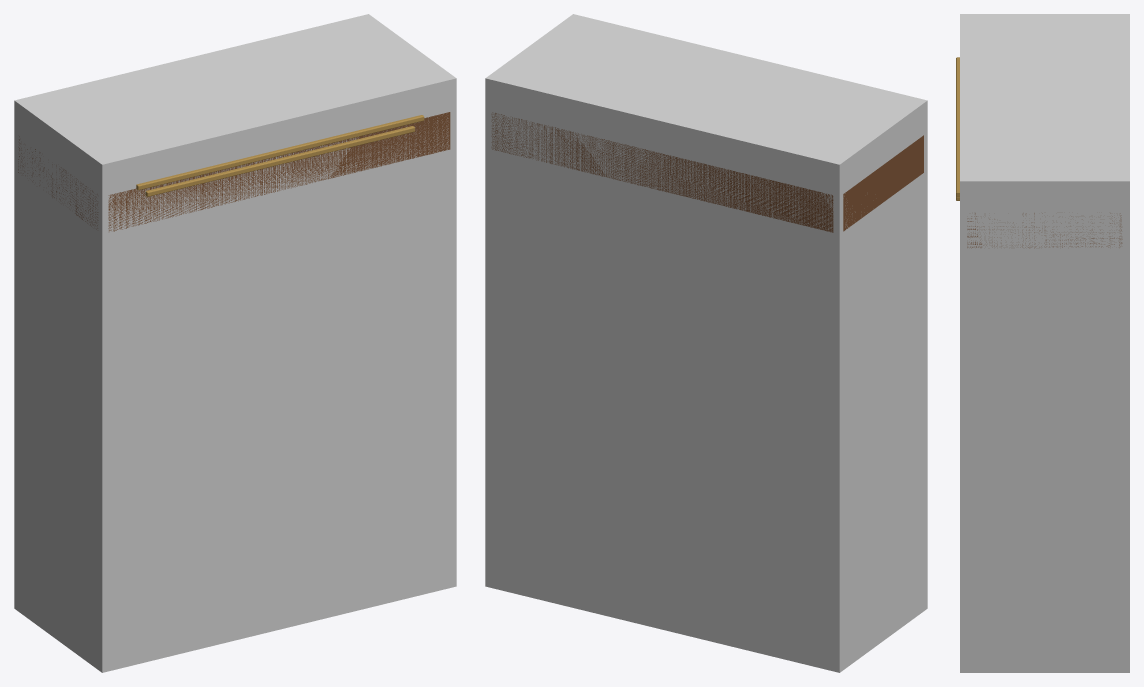
The model's file is feature-gondola_luxury.glb.
3 renders of one model, left to right at view 1: azimuth 30°, elevation 25°; view 2: azimuth 150°, elevation 25°; view 3: azimuth 270°, elevation 25°, orthographic. The views are drawn at different scales.
Visible parts, largest first — view 1: COL_feature-gondola, MESH_DisplayTop, MESH_TierTrim_01, MESH_TierTrim_02; view 2: COL_feature-gondola, MESH_DisplayTop; view 3: COL_feature-gondola, MESH_TierTrim_01, MESH_DisplayTop.
Part boxes in pixels (x1=…): COL_feature-gondola: x1=14, y1=14, x2=456, y2=672; MESH_DisplayTop: x1=18, y1=112, x2=450, y2=231; MESH_TierTrim_01: x1=136, y1=115, x2=424, y2=190; MESH_TierTrim_02: x1=145, y1=126, x2=414, y2=196; COL_feature-gondola: x1=485, y1=14, x2=927, y2=672; MESH_DisplayTop: x1=491, y1=112, x2=923, y2=232; COL_feature-gondola: x1=960, y1=14, x2=1129, y2=672; MESH_TierTrim_01: x1=956, y1=57, x2=959, y2=196; MESH_DisplayTop: x1=967, y1=213, x2=1122, y2=248.
Bounding box in the file's own units: 1.35 × 1.85 × 0.593.
